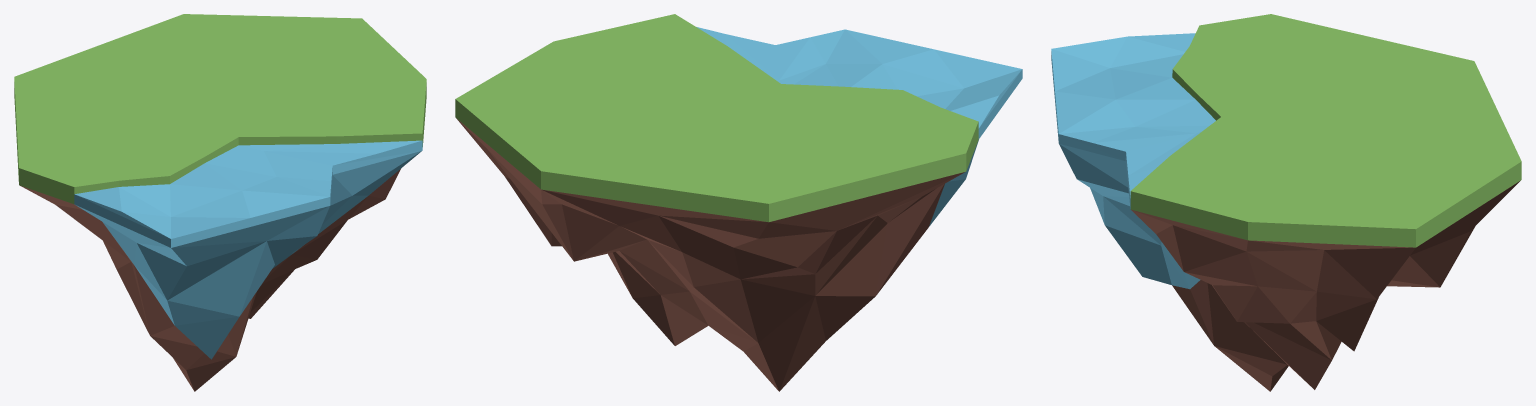
File: Island11_tex.fbx
The picture shows the model from 3 angles, left to right: view 1: azimuth 30°, elevation 25°; view 2: azimuth 150°, elevation 25°; view 3: azimuth 270°, elevation 25°; orthographic projection. The views are drawn at different scales.
Parts seen in each view (by area): view 1: Island11_tex; view 2: Island11_tex; view 3: Island11_tex.
Boxes of the visible parts, x1,y1,x2,y2 form: Island11_tex: (14,14,426,391); Island11_tex: (455,14,1022,391); Island11_tex: (1051,14,1521,391).
Size of the model in its own units: 4.98 by 3.09 by 4.6.
